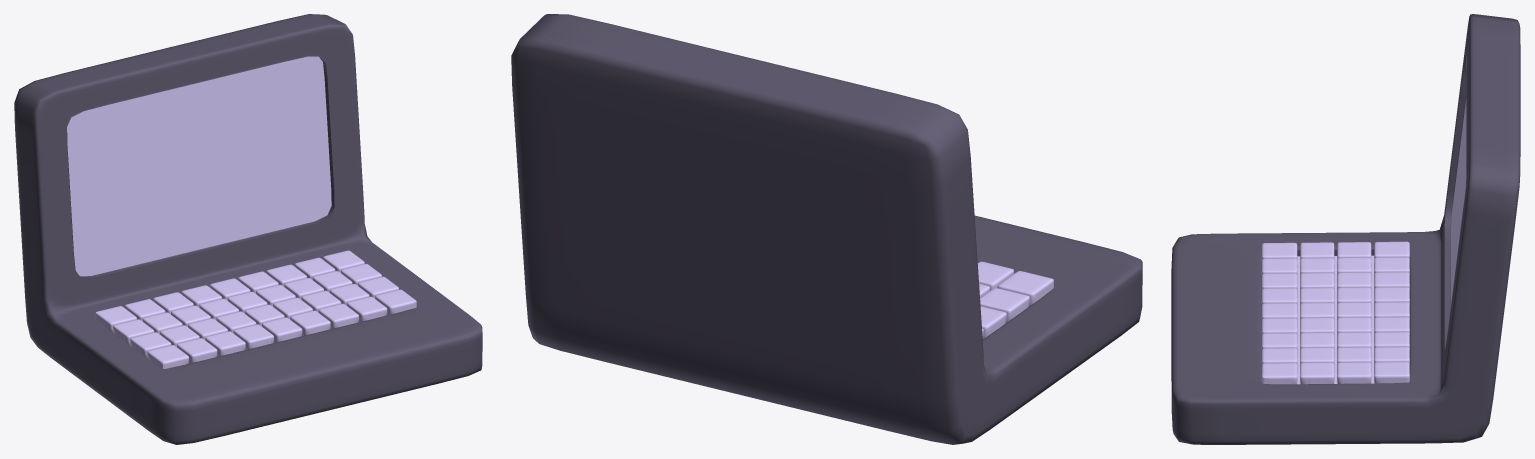
The model's file is laptop_4.glb.
3 views of the same model, side by side, from view 1: azimuth 30°, elevation 25°; view 2: azimuth 150°, elevation 25°; view 3: azimuth 270°, elevation 25° (orthographic). The views are drawn at different scales.
Visible parts, largest first — view 1: laptop; view 2: laptop; view 3: laptop.
Boxes of the visible parts, x1,y1,x2,y2 form: laptop: (14, 14, 482, 444); laptop: (511, 14, 1142, 444); laptop: (1171, 14, 1520, 444).
Bounding box in the file's own units: 3.21 × 2.43 × 2.81.
